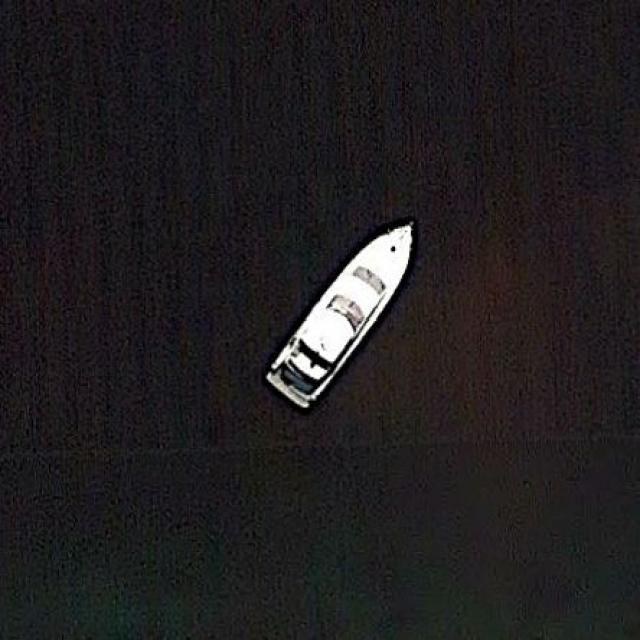ship: (265, 216, 415, 408)
